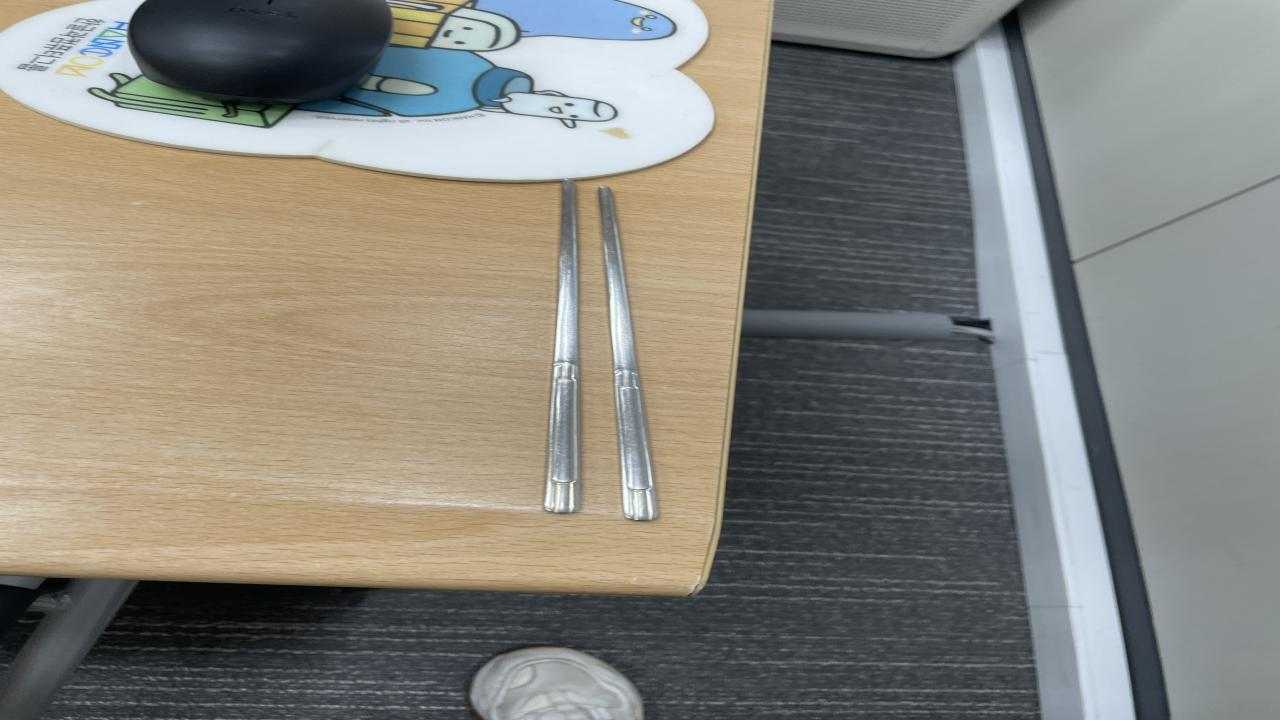chopstick: (531, 181, 661, 520)
